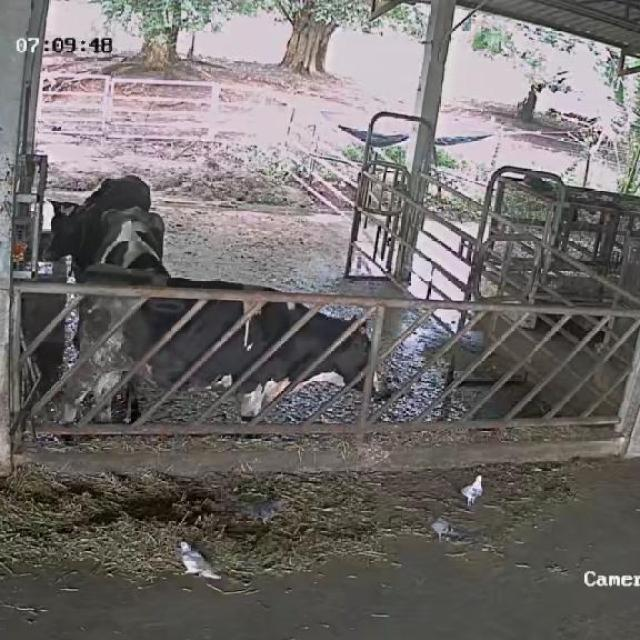standing: (65, 268, 382, 432), (43, 170, 158, 268), (84, 202, 169, 276)
